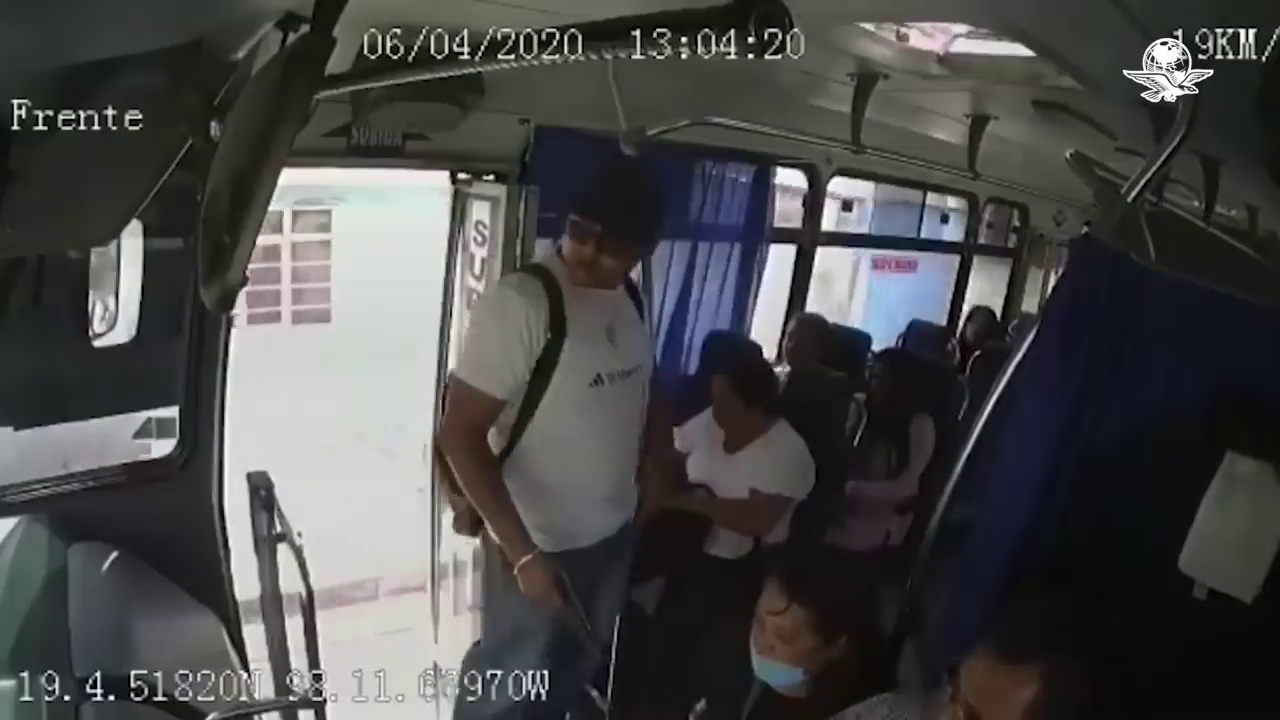pistol: (545, 562, 602, 647)
